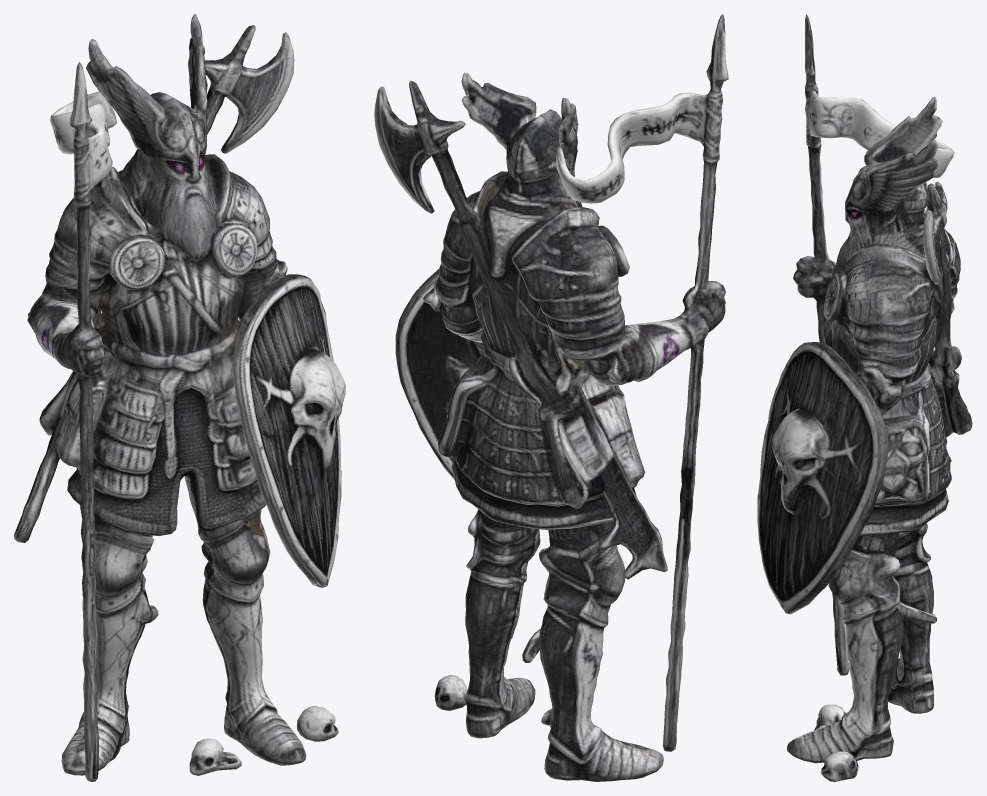
File: Wodan_Warrior.glb
3 renders of one model, left to right at view 1: azimuth 30°, elevation 25°; view 2: azimuth 150°, elevation 25°; view 3: azimuth 270°, elevation 25°, orthographic. The views are drawn at different scales.
Bounding box in the file's own units: 0.7945 × 1.91 × 0.5675.
1 material, 1 textured.
